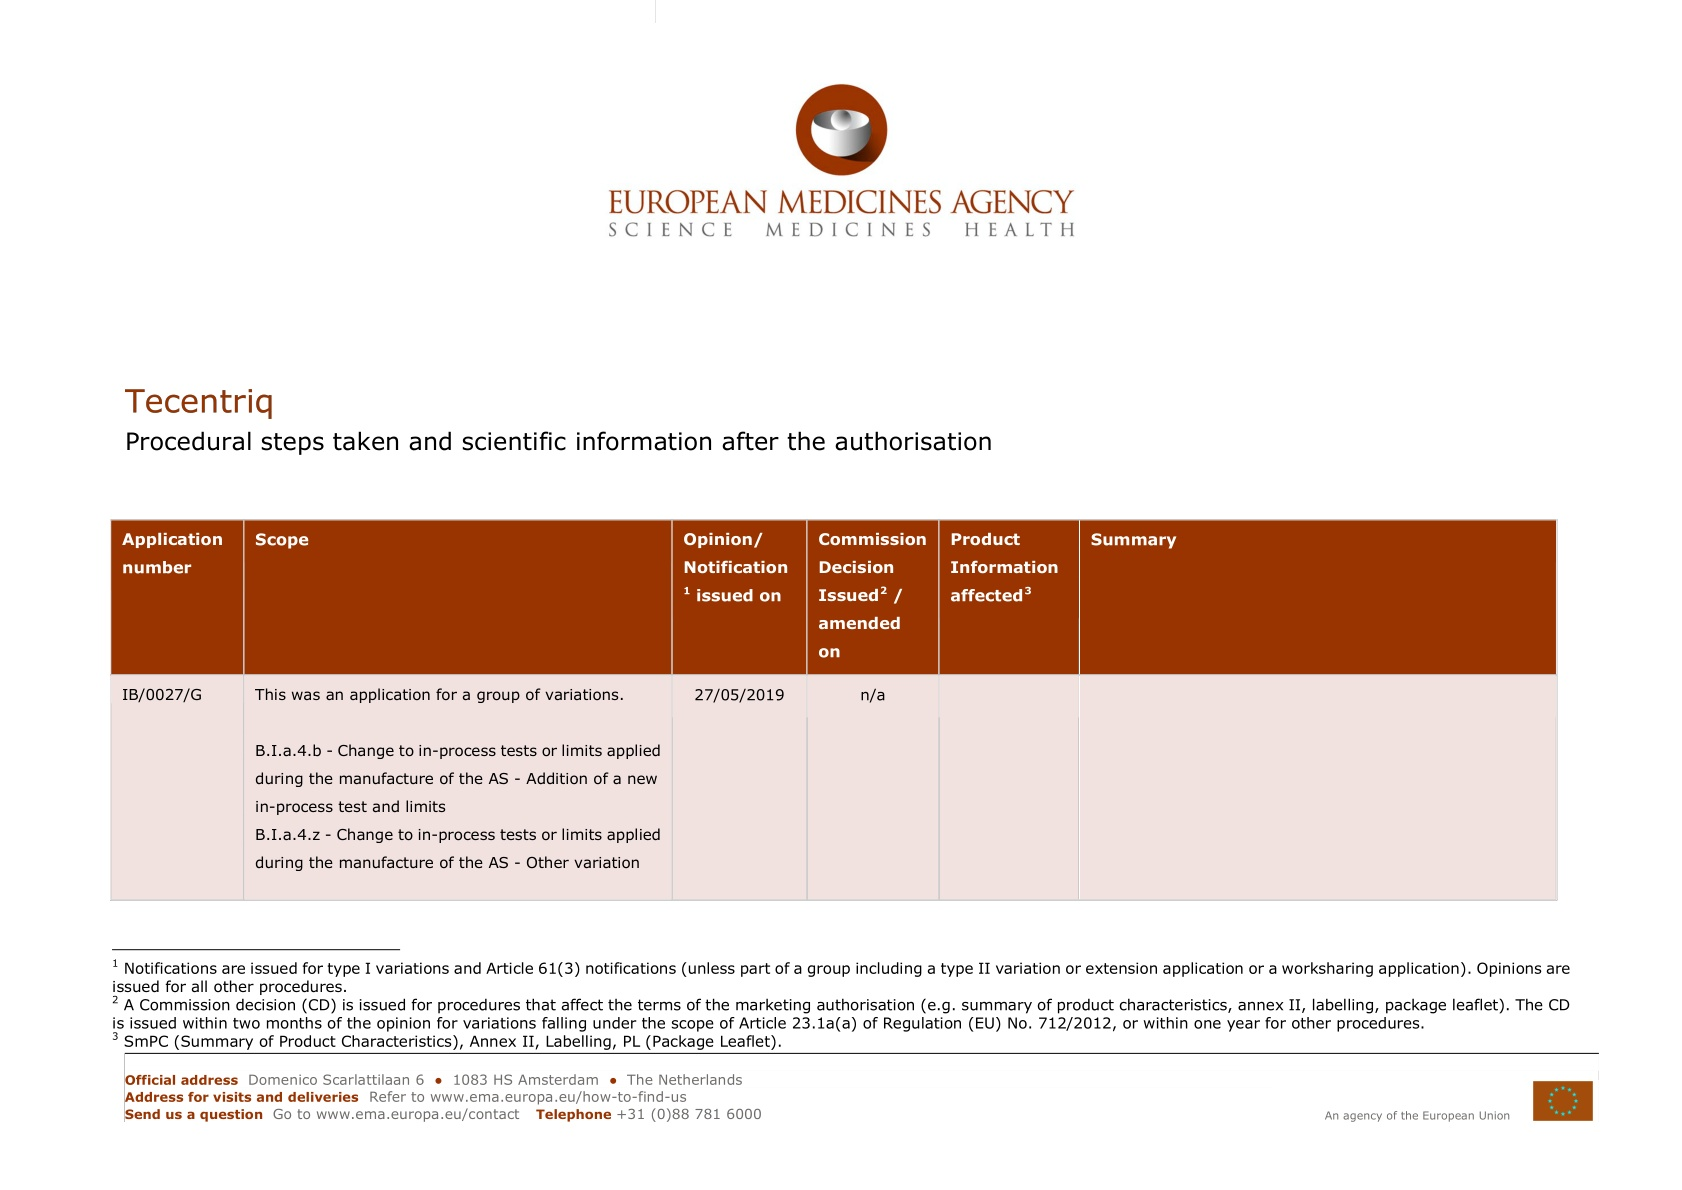full_lined: (109, 516, 1558, 904)
